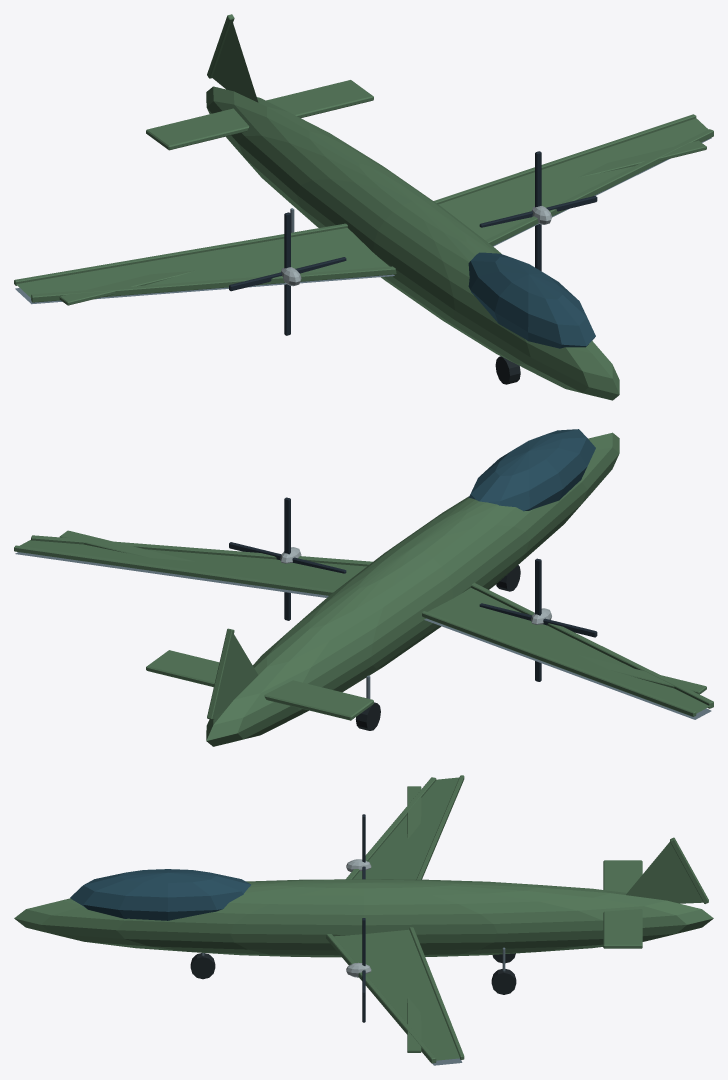
Rendered from aircraft-cargo-plane.lod0.glb.
3 views of the same model, one above another, from view 1: azimuth 30°, elevation 25°; view 2: azimuth 150°, elevation 25°; view 3: azimuth 270°, elevation 25° (orthographic). The views are drawn at different scales.
Visible parts, largest first — view 1: aircraft-cargo-plane__body, aircraft-cargo-plane__propeller_0, aircraft-cargo-plane__propeller_1, aircraft-cargo-plane__aileron_-1, aircraft-cargo-plane__aileron_1; view 2: aircraft-cargo-plane__body, aircraft-cargo-plane__propeller_1, aircraft-cargo-plane__propeller_0, aircraft-cargo-plane__aileron_-1, aircraft-cargo-plane__aileron_1, aircraft-cargo-plane__gear_-0p85; view 3: aircraft-cargo-plane__body, aircraft-cargo-plane__propeller_1, aircraft-cargo-plane__aileron_1, aircraft-cargo-plane__gear_0p85, aircraft-cargo-plane__aileron_-1, aircraft-cargo-plane__gear_0, aircraft-cargo-plane__propeller_0.
Part boxes in pixels (box(x1,y1,x2,y2)): aircraft-cargo-plane__body: box(14, 14, 713, 400); aircraft-cargo-plane__propeller_0: box(229, 212, 346, 335); aircraft-cargo-plane__propeller_1: box(479, 151, 597, 271); aircraft-cargo-plane__aileron_-1: box(59, 270, 195, 305); aircraft-cargo-plane__aileron_1: box(578, 140, 706, 177); aircraft-cargo-plane__body: box(14, 429, 713, 746); aircraft-cargo-plane__propeller_1: box(229, 497, 346, 620); aircraft-cargo-plane__propeller_0: box(479, 558, 597, 681); aircraft-cargo-plane__aileron_-1: box(578, 655, 706, 694); aircraft-cargo-plane__aileron_1: box(59, 530, 249, 584); aircraft-cargo-plane__gear_-0p85: box(355, 675, 380, 730); aircraft-cargo-plane__body: box(14, 775, 713, 1065); aircraft-cargo-plane__propeller_1: box(346, 918, 371, 1022); aircraft-cargo-plane__aileron_1: box(407, 997, 421, 1052); aircraft-cargo-plane__gear_0p85: box(491, 947, 516, 994); aircraft-cargo-plane__aileron_-1: box(407, 786, 421, 838); aircraft-cargo-plane__gear_0: box(190, 953, 215, 979); aircraft-cargo-plane__propeller_0: box(346, 814, 371, 879).
Size of the model in its own units: 15.23 by 3.5 by 16.
